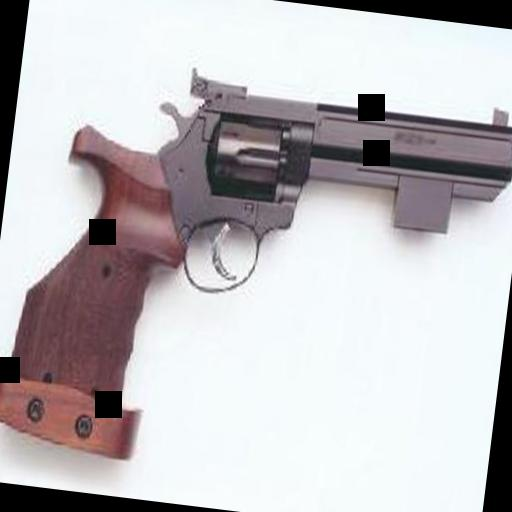Handgun: (0, 41, 512, 494)
